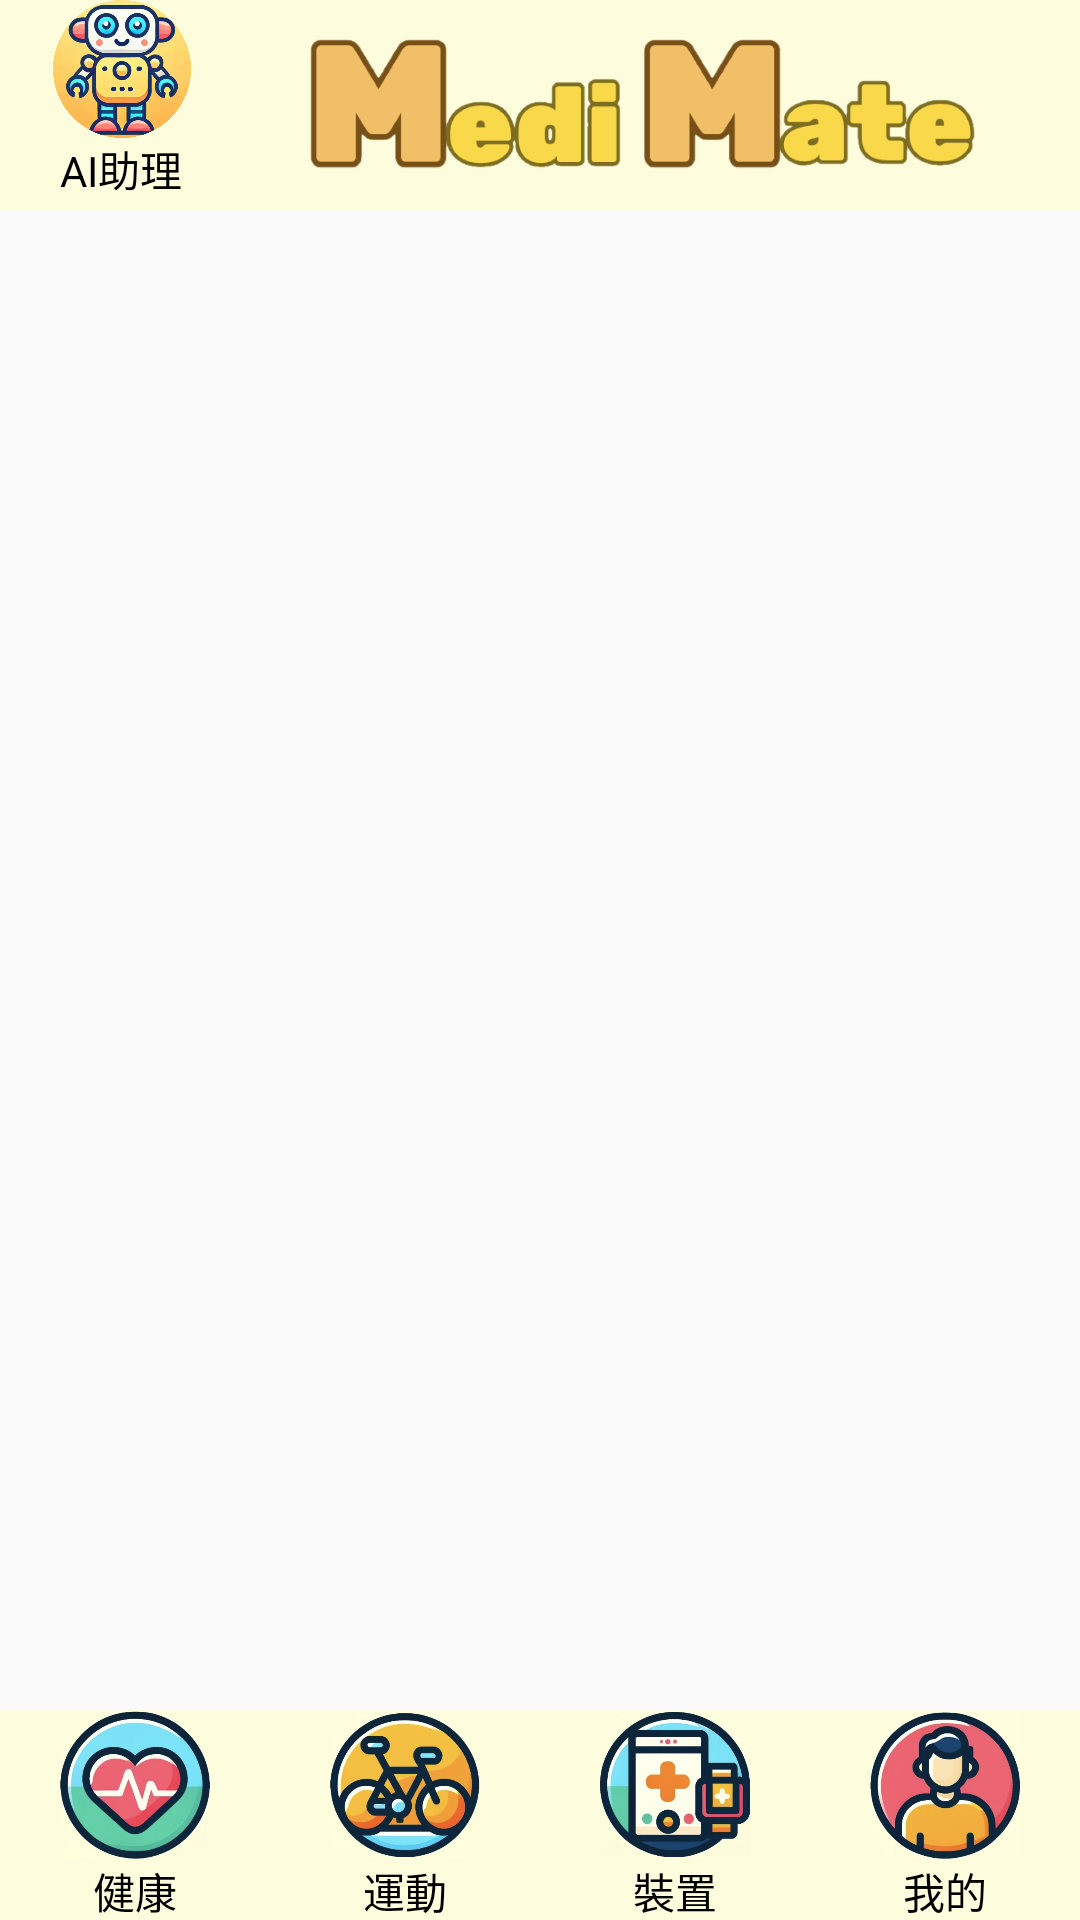

Named icons in this screenshot (1080*1920) and their bounding boxes, (x1, y1, x2, y2):
people: (870, 1712, 1020, 1859)
watch: (600, 1712, 750, 1857)
